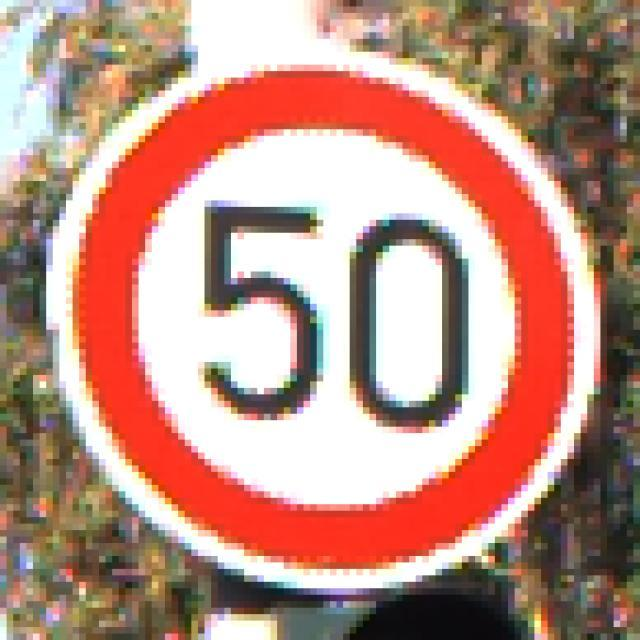speed limit 50: (52, 57, 592, 576)
